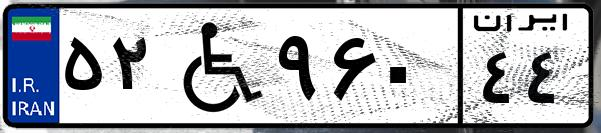0: (385, 28, 445, 110)
2: (110, 28, 158, 98)
4: (475, 38, 525, 113), (525, 38, 570, 115)
5: (57, 26, 110, 100)
6: (330, 28, 385, 110)
9: (270, 28, 330, 110)
ژ (معلولین و جانبازان): (158, 12, 270, 120)
